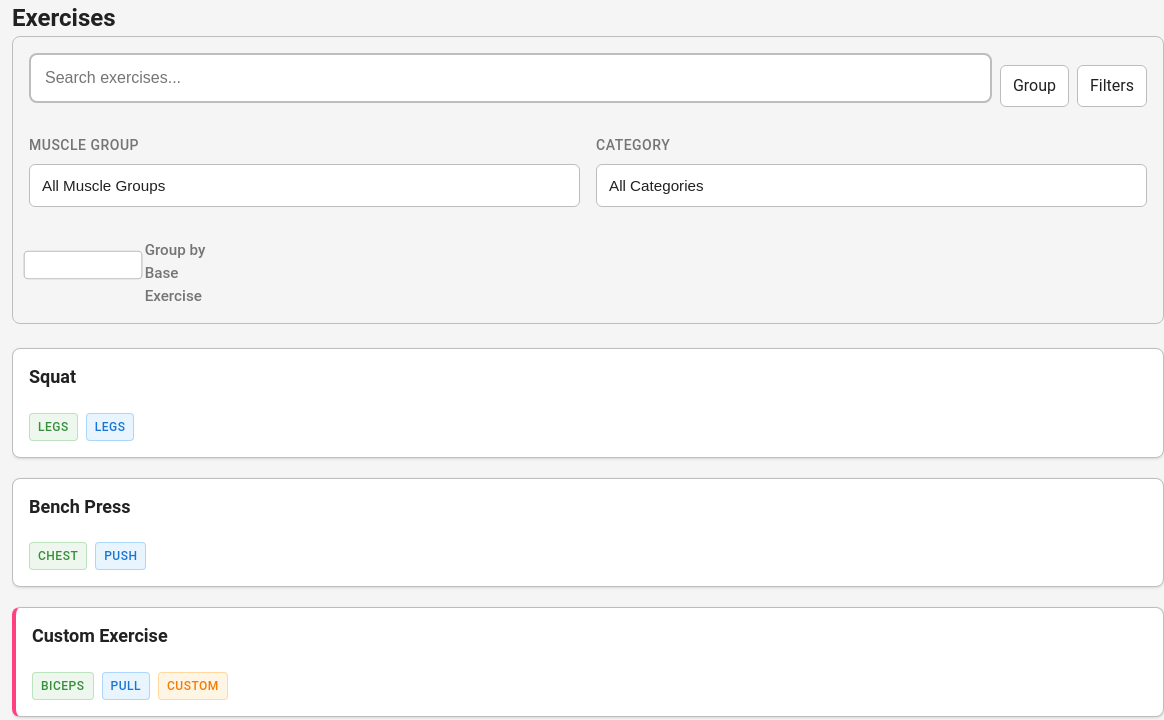
Test: ExerciseList › filters exercises by category
The image size is (1164, 720).
Select "Pull" in the dropdown named "category". click: (872, 186)
box: top-left (596, 164), bottom-right (1147, 207)
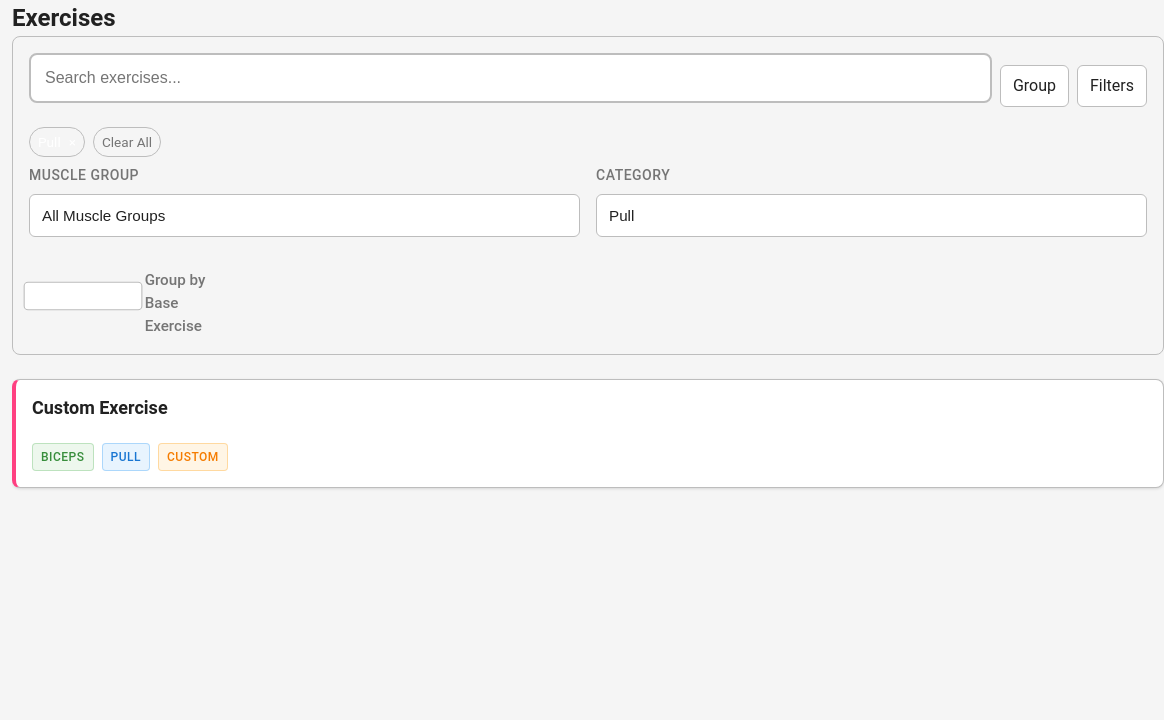
Check: the heading "Custom Exercise" is shown, box top-left (32, 397), bottom-right (168, 418)
Check: the heading "Squat" is gone
